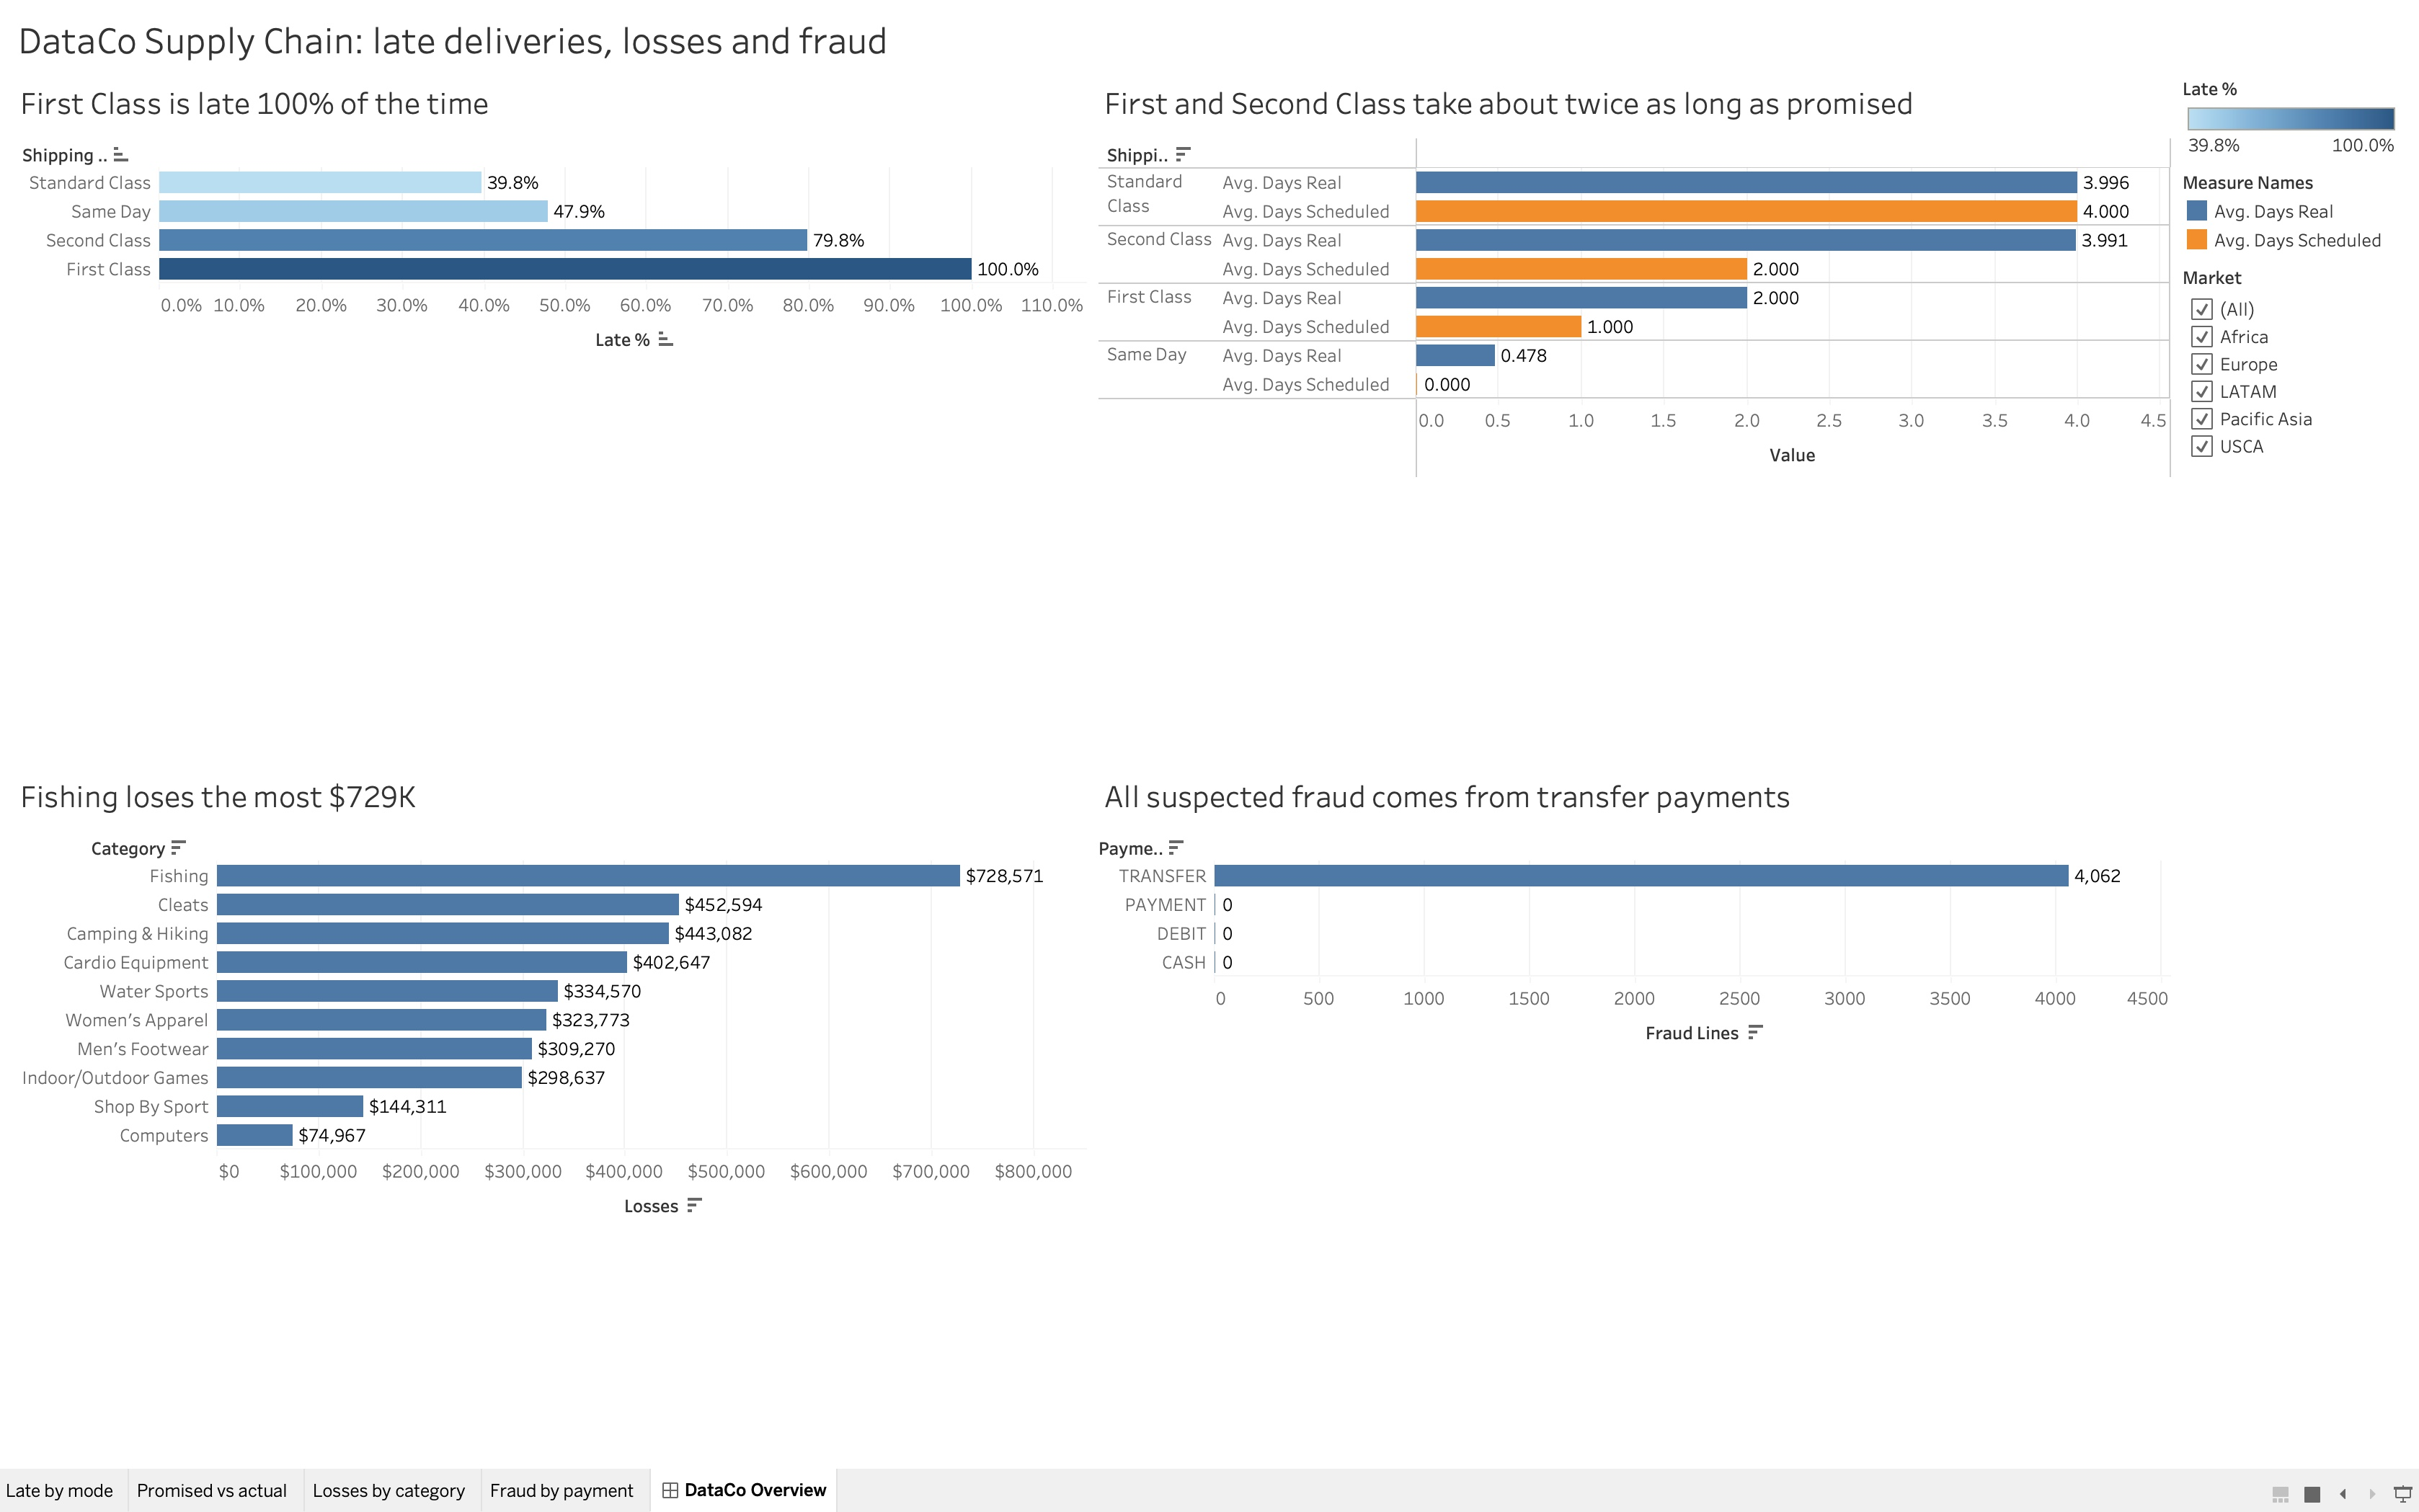

The page's visual inventory and layout, read from the dashboard file:
{"tool":"tableau","page":{"name":"DataCo Overview","canvas":[1000,1000],"units":"permille","ordinal":0},"visuals":[{"type":"title","box":[5.5,9.8,989.1,51.2]},{"type":"worksheet","title":"Late by mode","mark":"Automatic","rows":["shipping_mode"],"cols":["Calculation_3570592357285890"],"box":[5.5,61,440.1,464.6]},{"type":"worksheet","title":"Promised vs actual","mark":"Automatic","rows":["shipping_mode"],"box":[445.5,61,440.1,464.6]},{"type":"legend","title":"Late by mode","param":"[federated.1cb6eqi1kmlwux1da3st706p9gra].[usr:Calculation_3570592357285890:qk]","box":[885.6,61,108.9,79.3]},{"type":"legend","title":"Promised vs actual","param":"[federated.1cb6eqi1kmlwux1da3st706p9gra].[:Measure Names]","box":[885.6,140.2,108.9,80.5]},{"type":"filter","title":"Late by mode","param":"[federated.1cb6eqi1kmlwux1da3st706p9gra].[none:market:nk]","box":[885.6,220.7,108.9,178.1]},{"type":"worksheet","title":"Losses by category","mark":"Automatic","rows":["category"],"cols":["Calculation_3570592365572099"],"box":[5.5,525.6,440.1,464.6]},{"type":"worksheet","title":"Fraud by payment","mark":"Automatic","rows":["payment_type"],"cols":["Calculation_3570592367222788"],"box":[445.5,525.6,440.1,464.6]}]}

Visuals, with their boxes on the dashboard's canvas, which has no fixed pixel size, in thousandths of its width and height (x1, y1, x2, y2). These are canvas units, not pixel positions in the 2419x1512 screenshot, which may show the page scaled, cropped or inside an application window:
title: box=[6, 10, 995, 61]
"Late by mode" worksheet: box=[6, 61, 446, 526]
"Promised vs actual" worksheet: box=[446, 61, 886, 526]
"Late by mode" legend: box=[886, 61, 994, 140]
"Promised vs actual" legend: box=[886, 140, 994, 221]
"Late by mode" filter: box=[886, 221, 994, 399]
"Losses by category" worksheet: box=[6, 526, 446, 990]
"Fraud by payment" worksheet: box=[446, 526, 886, 990]
